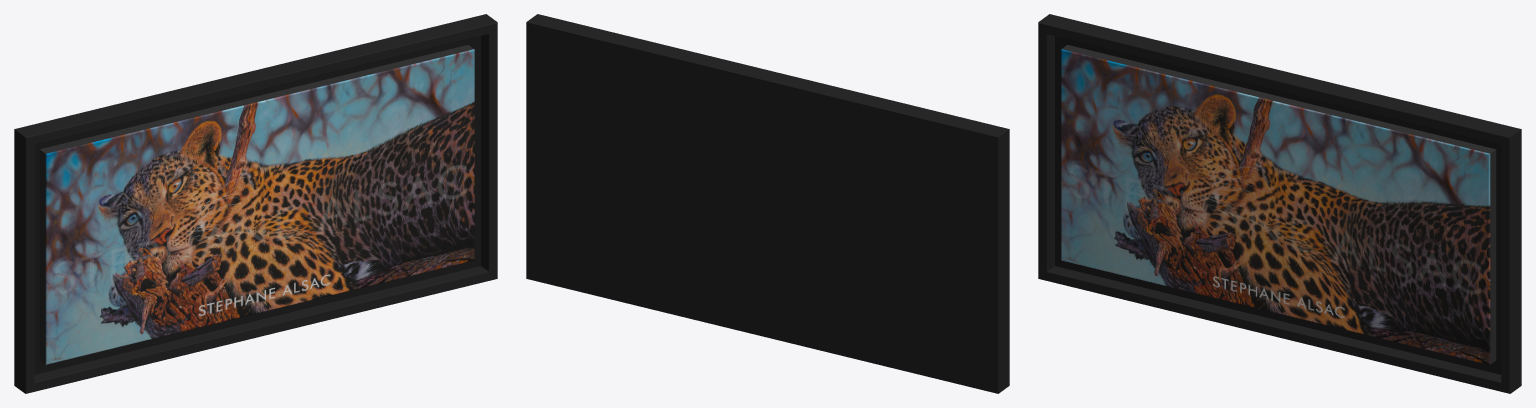
File: tableau-leopard-arbre-classique-adec5d94.glb
3 renders of one model, left to right at view 1: azimuth 30°, elevation 25°; view 2: azimuth 150°, elevation 25°; view 3: azimuth 330°, elevation 25°, orthographic.
Parts seen in each view (by area): view 1: Painting; view 2: Painting; view 3: Painting.
Boxes of the visible parts, bbox=[...] form: Painting: bbox=[14, 14, 497, 393]; Painting: bbox=[526, 14, 1009, 393]; Painting: bbox=[1038, 14, 1521, 393].
Size of the model in its own units: 0.936 by 0.486 by 0.04.
Materials: 4 (2 with a texture image).
